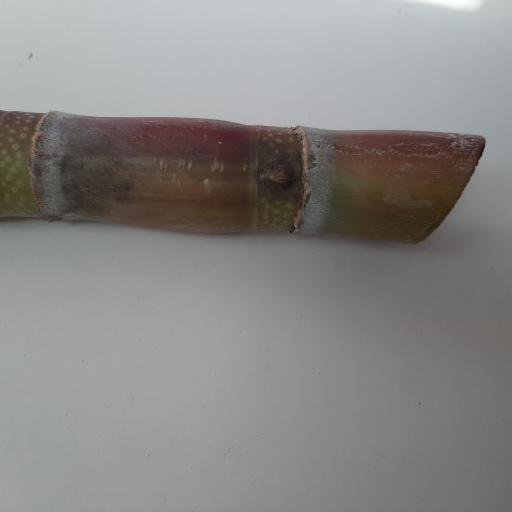Bud: (260, 162, 299, 192)
